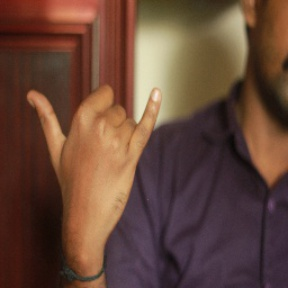J: (24, 62, 163, 233)
